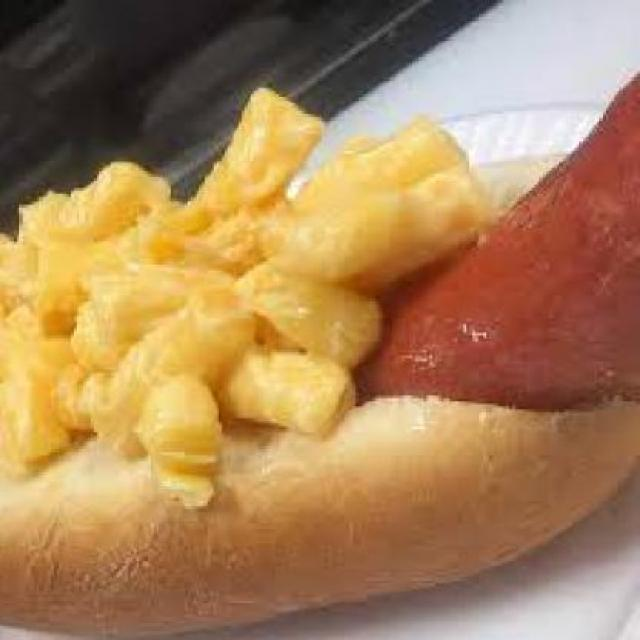macaroni and cheese: (2, 76, 481, 504)
